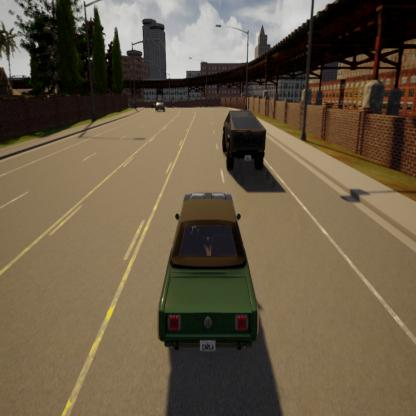Cars: (157, 191, 260, 354), (221, 108, 266, 172), (155, 95, 164, 114)
